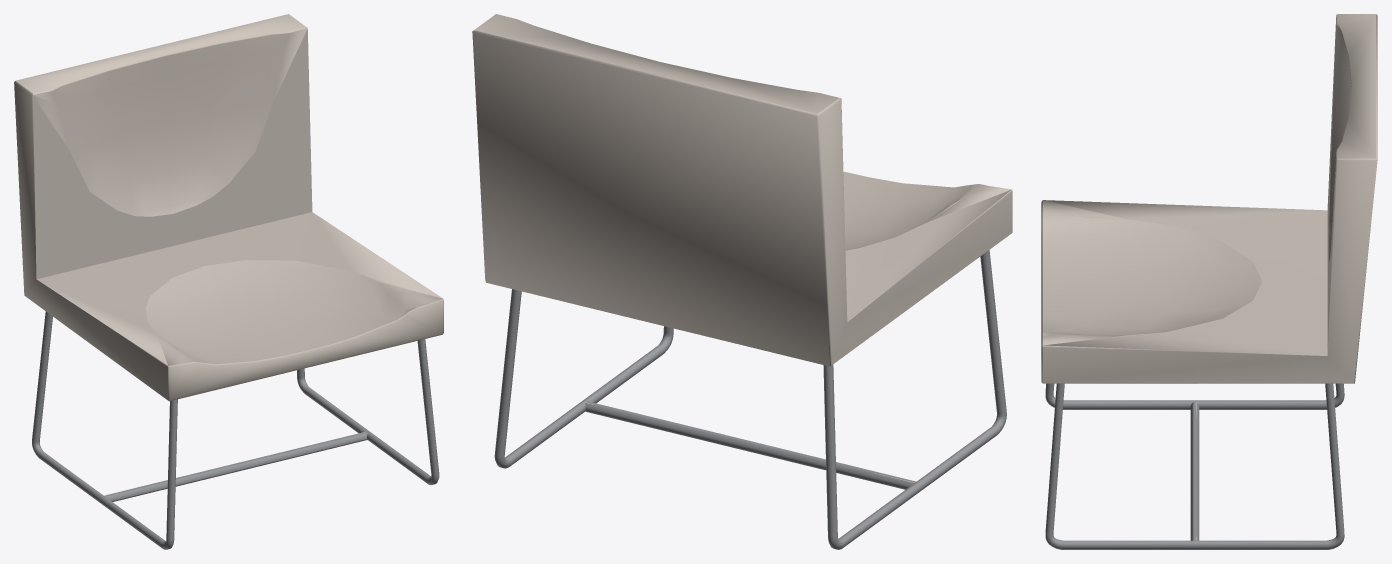
File: LC_3012_ChairG_LOD2.FBX
3 renders of one model, left to right at view 1: azimuth 30°, elevation 25°; view 2: azimuth 150°, elevation 25°; view 3: azimuth 270°, elevation 25°, orthographic. The views are drawn at different scales.
Parts seen in each view (by area): view 1: LC_3012_ChairG_LOD2; view 2: LC_3012_ChairG_LOD2; view 3: LC_3012_ChairG_LOD2.
Boxes of the visible parts, x1,y1,x2,y2 form: LC_3012_ChairG_LOD2: (14, 14, 443, 549); LC_3012_ChairG_LOD2: (472, 14, 1012, 549); LC_3012_ChairG_LOD2: (1041, 14, 1377, 549).
Bounding box in the file's own units: 44.92 × 56.46 × 43.78.
Materials: 1 (1 with a texture image).
